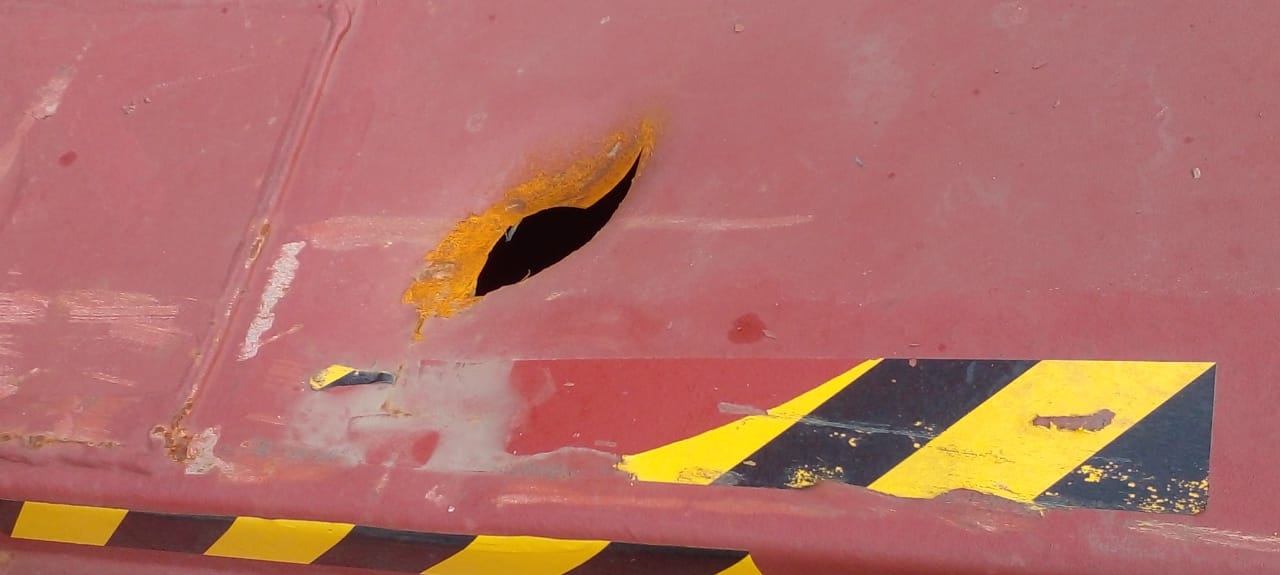hole: (421, 126, 664, 379)
